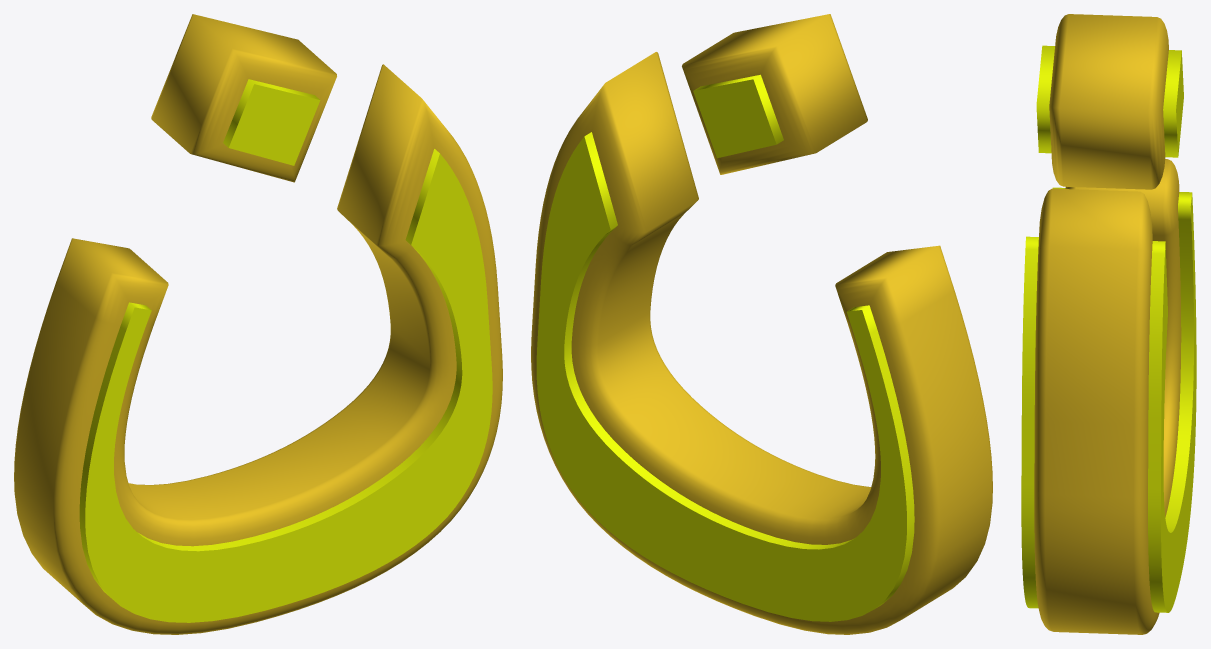
3 views of the same model, side by side, from view 1: azimuth 30°, elevation 25°; view 2: azimuth 150°, elevation 25°; view 3: azimuth 270°, elevation 25° (orthographic).
Visible parts, largest first — view 1: text 2, Text; view 2: text 2, Text; view 3: text 2, Text.
Part boxes in pixels (x1,y1,x2,y2): text 2: (14, 14, 502, 634); Text: (79, 79, 492, 622); text 2: (531, 14, 992, 634); Text: (536, 74, 914, 621); text 2: (1034, 14, 1181, 634); Text: (1021, 45, 1196, 612).
Bounding box in the file's own units: 43.18 × 54.84 × 15.23.
